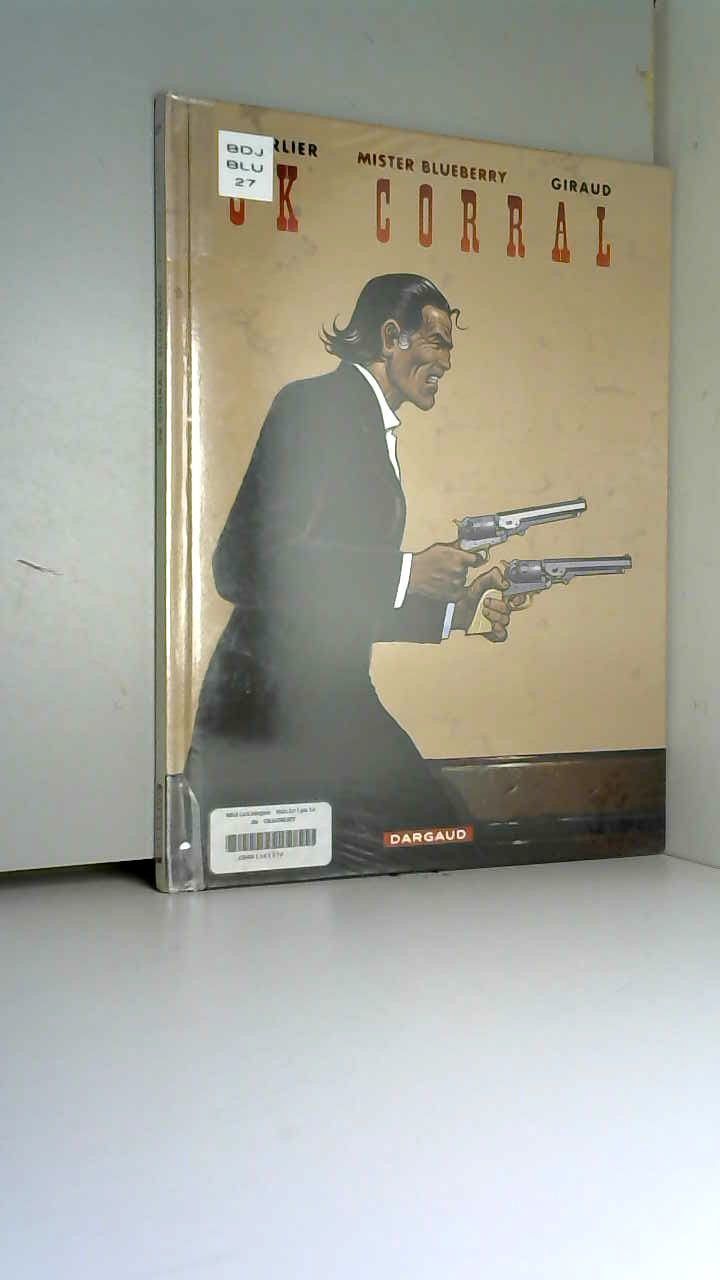book: (120, 70, 716, 924)
